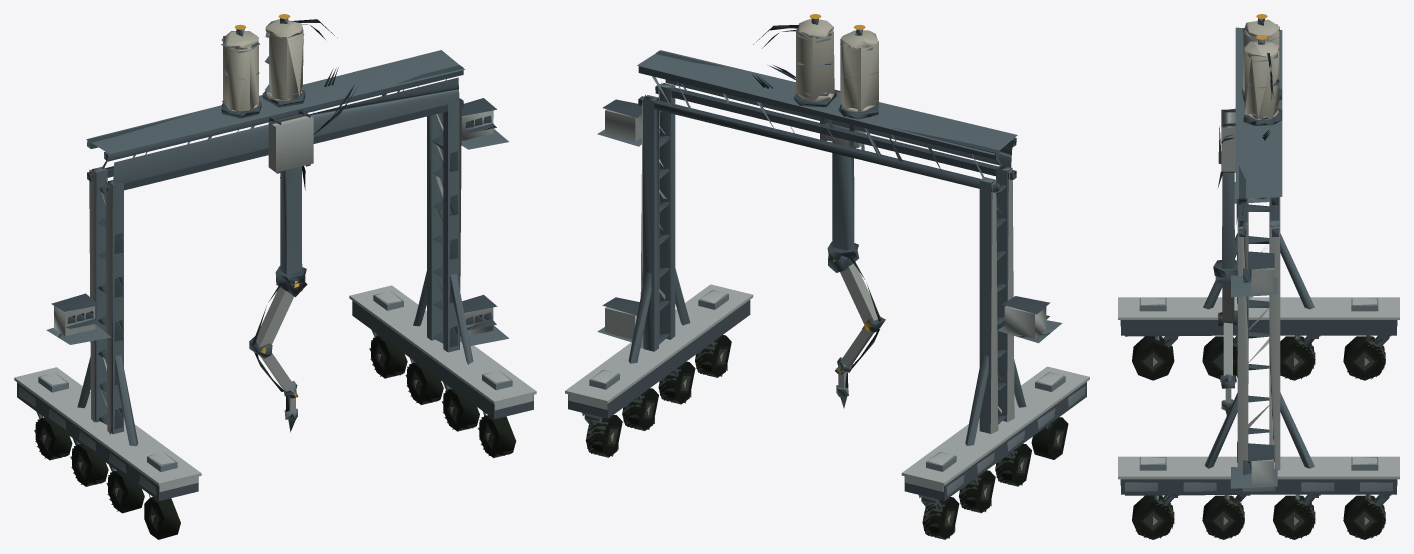
Rendered from stalheart_kidou_d0_lod2.glb.
The picture shows the model from 3 angles, left to right: view 1: azimuth 30°, elevation 25°; view 2: azimuth 150°, elevation 25°; view 3: azimuth 270°, elevation 25°; orthographic projection. The views are drawn at different scales.
Visible parts, largest first — view 1: KIDOU_STATIC_SURFACE; view 2: KIDOU_STATIC_SURFACE; view 3: KIDOU_STATIC_SURFACE.
Boxes of the visible parts, x1,y1,x2,y2 form: KIDOU_STATIC_SURFACE: (14,14,536,539); KIDOU_STATIC_SURFACE: (565,14,1089,539); KIDOU_STATIC_SURFACE: (1118,14,1399,539).
Bounding box in the file's own units: 42.09 × 39.86 × 24.
